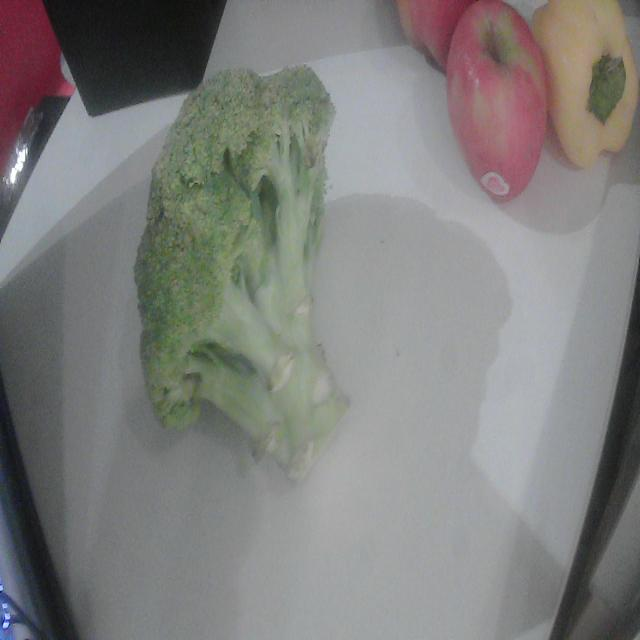Apple: (444, 0, 547, 200)
Bell Pepper: (532, 0, 640, 168)
Broccoli: (134, 68, 348, 478)
